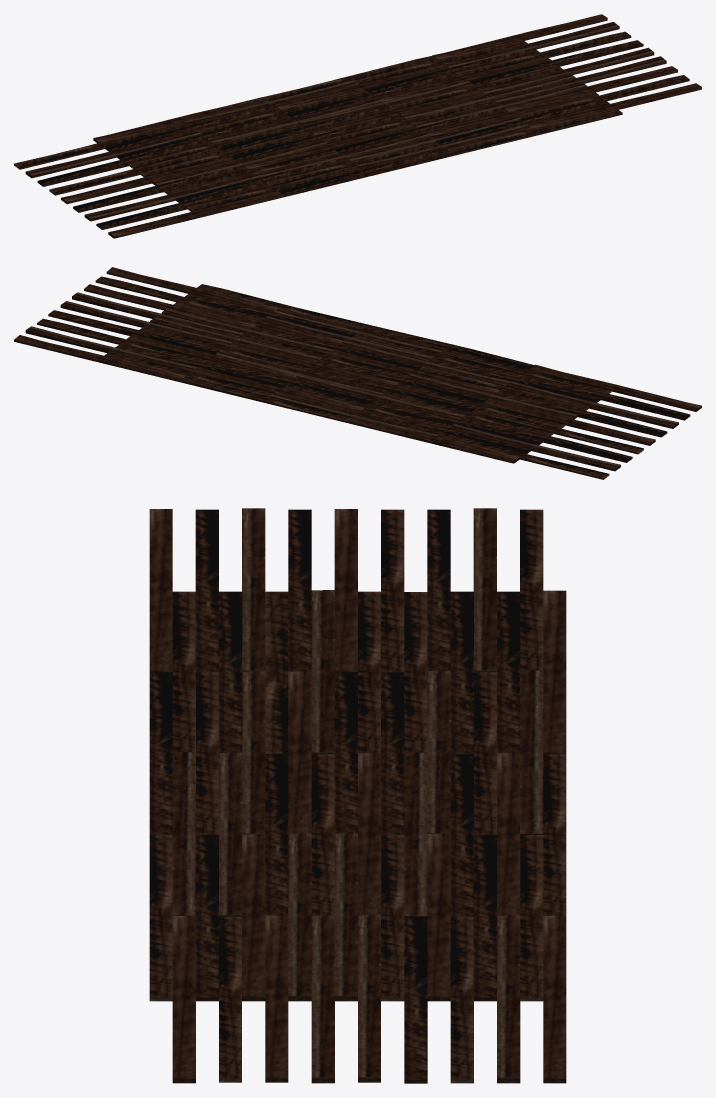
The model's file is WoodFloor.fbx.
3 views of the same model, one above another, from view 1: azimuth 30°, elevation 25°; view 2: azimuth 150°, elevation 25°; view 3: azimuth 270°, elevation 25° (orthographic). The views are drawn at different scales.
Parts seen in each view (by area): view 1: WoodFloor_01; view 2: WoodFloor_01; view 3: WoodFloor_01.
Part boxes in pixels (x1=…): WoodFloor_01: x1=14, y1=14, x2=701, y2=238; WoodFloor_01: x1=14, y1=267, x2=701, y2=479; WoodFloor_01: x1=149, y1=508, x2=566, y2=1083.
Size of the model in its own units: 8.62 by 0.1431 by 27.89.
